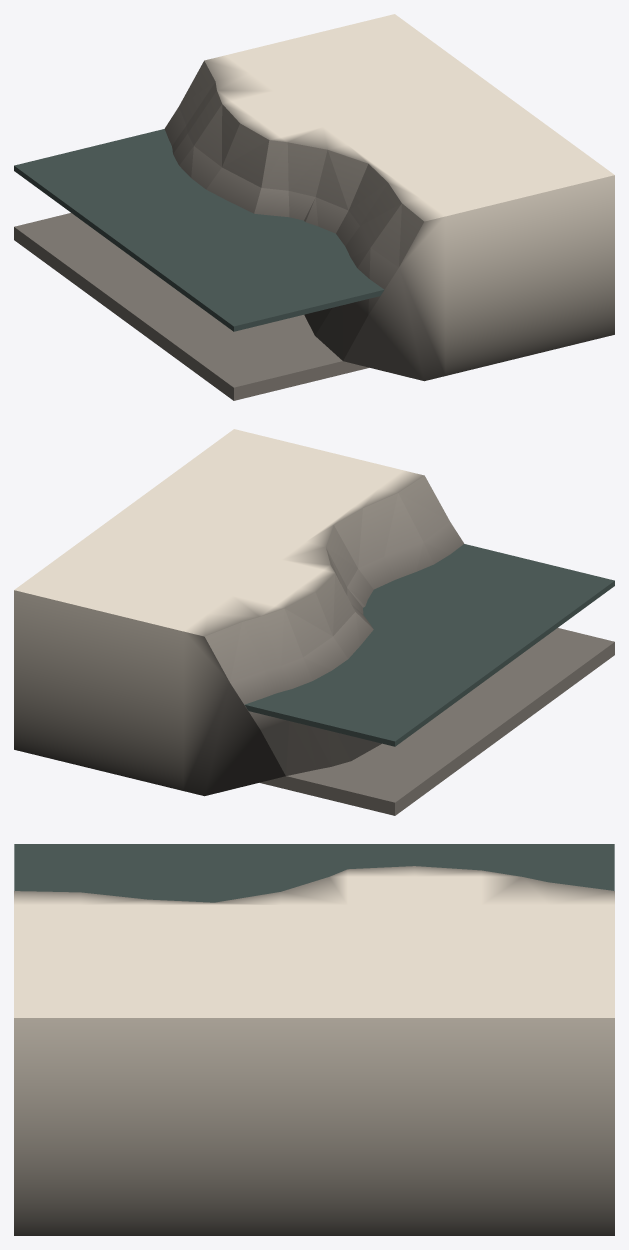
Rendered from SM_VKI_Ground_Stream_XOOX_Q11.fbx.
3 views of the same model, one above another, from view 1: azimuth 30°, elevation 25°; view 2: azimuth 150°, elevation 25°; view 3: azimuth 270°, elevation 25° (orthographic). The views are drawn at different scales.
Visible parts, largest first — view 1: SM_VKI_Ground_Stream_XOOX_Q11.001; view 2: SM_VKI_Ground_Stream_XOOX_Q11.001; view 3: SM_VKI_Ground_Stream_XOOX_Q11.001.
Part boxes in pixels (x1,y1,x2,y2): SM_VKI_Ground_Stream_XOOX_Q11.001: (14, 14, 614, 400); SM_VKI_Ground_Stream_XOOX_Q11.001: (14, 429, 614, 815); SM_VKI_Ground_Stream_XOOX_Q11.001: (14, 844, 614, 1235).
Size of the model in its own units: 1.5 by 0.6 by 1.5.
